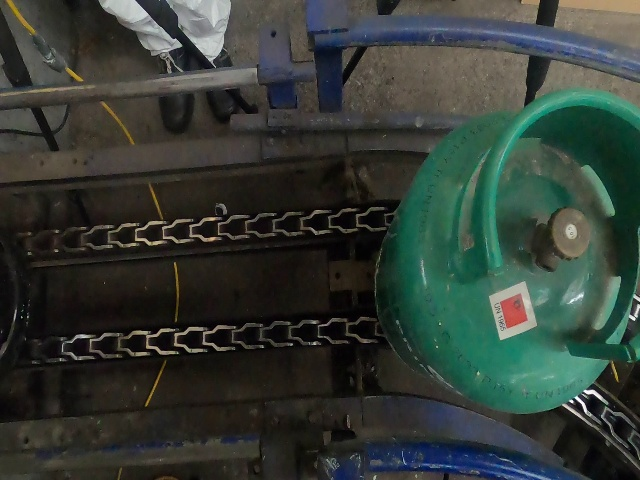gas_bottle: (5, 2, 640, 480)
